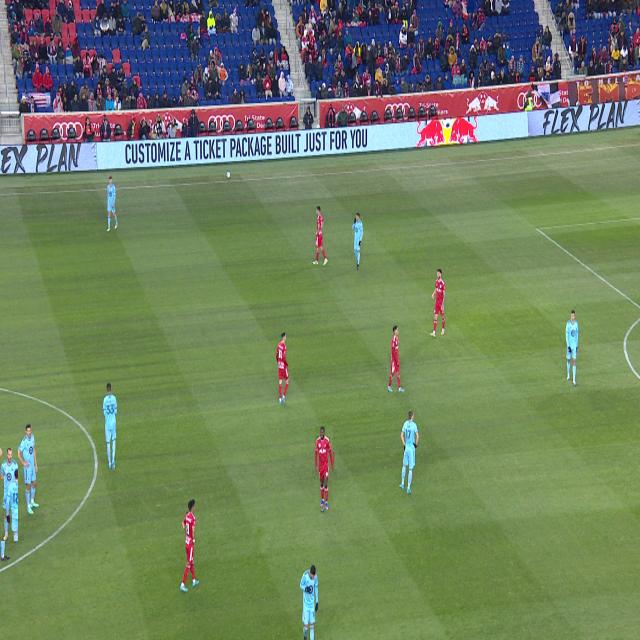player: (16, 423, 39, 515), (180, 499, 199, 592), (399, 409, 419, 494), (1, 449, 18, 541), (316, 427, 333, 510), (300, 565, 318, 640), (103, 383, 117, 470), (0, 470, 13, 560), (388, 325, 405, 393), (430, 269, 445, 337), (312, 206, 328, 265), (276, 333, 289, 404), (566, 310, 578, 386), (106, 177, 118, 232), (352, 214, 363, 268)
